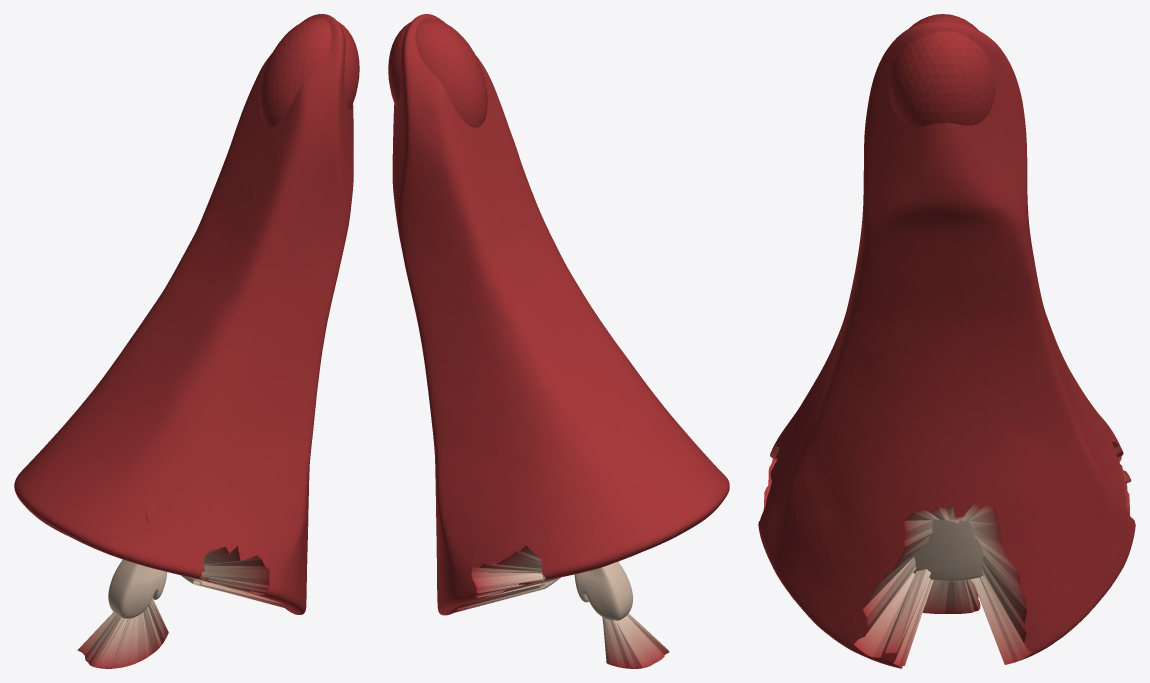
File: arm_R.glb
The picture shows the model from 3 angles, left to right: view 1: azimuth 30°, elevation 25°; view 2: azimuth 150°, elevation 25°; view 3: azimuth 270°, elevation 25°; orthographic projection. The views are drawn at different scales.
Visible parts, largest first — view 1: geometry_0; view 2: geometry_0; view 3: geometry_0.
Part boxes in pixels (x1=…): geometry_0: x1=14, y1=14, x2=359, y2=668; geometry_0: x1=388, y1=14, x2=729, y2=668; geometry_0: x1=758, y1=14, x2=1135, y2=668.
Bounding box in the file's own units: 0.3745 × 0.6732 × 0.3213.
